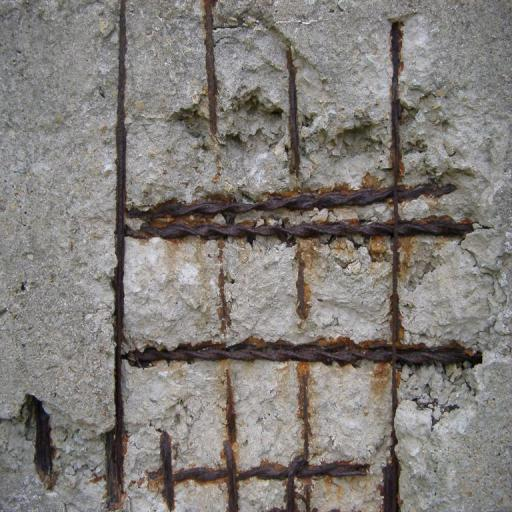spalling: (8, 3, 495, 502)
